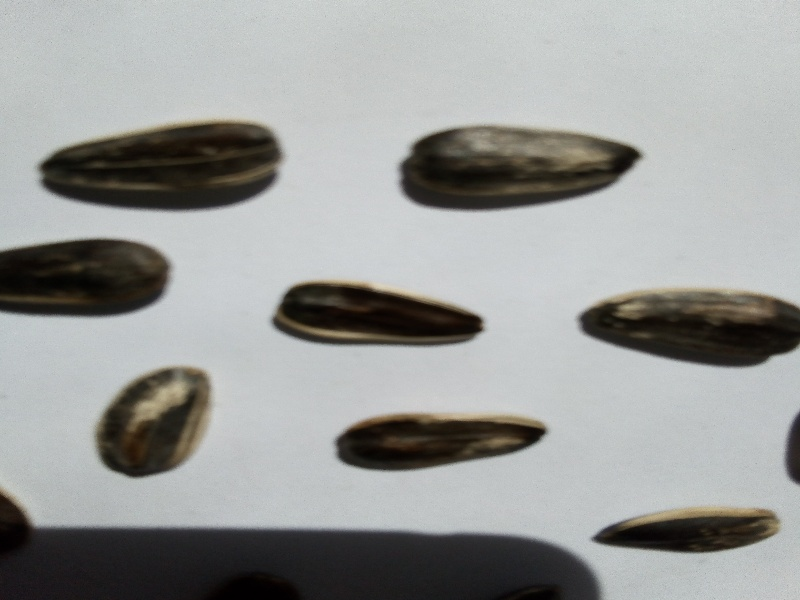girasol: (395, 117, 648, 212), (265, 265, 493, 368), (31, 117, 292, 206), (80, 356, 228, 487), (325, 399, 560, 479), (581, 497, 796, 568)
